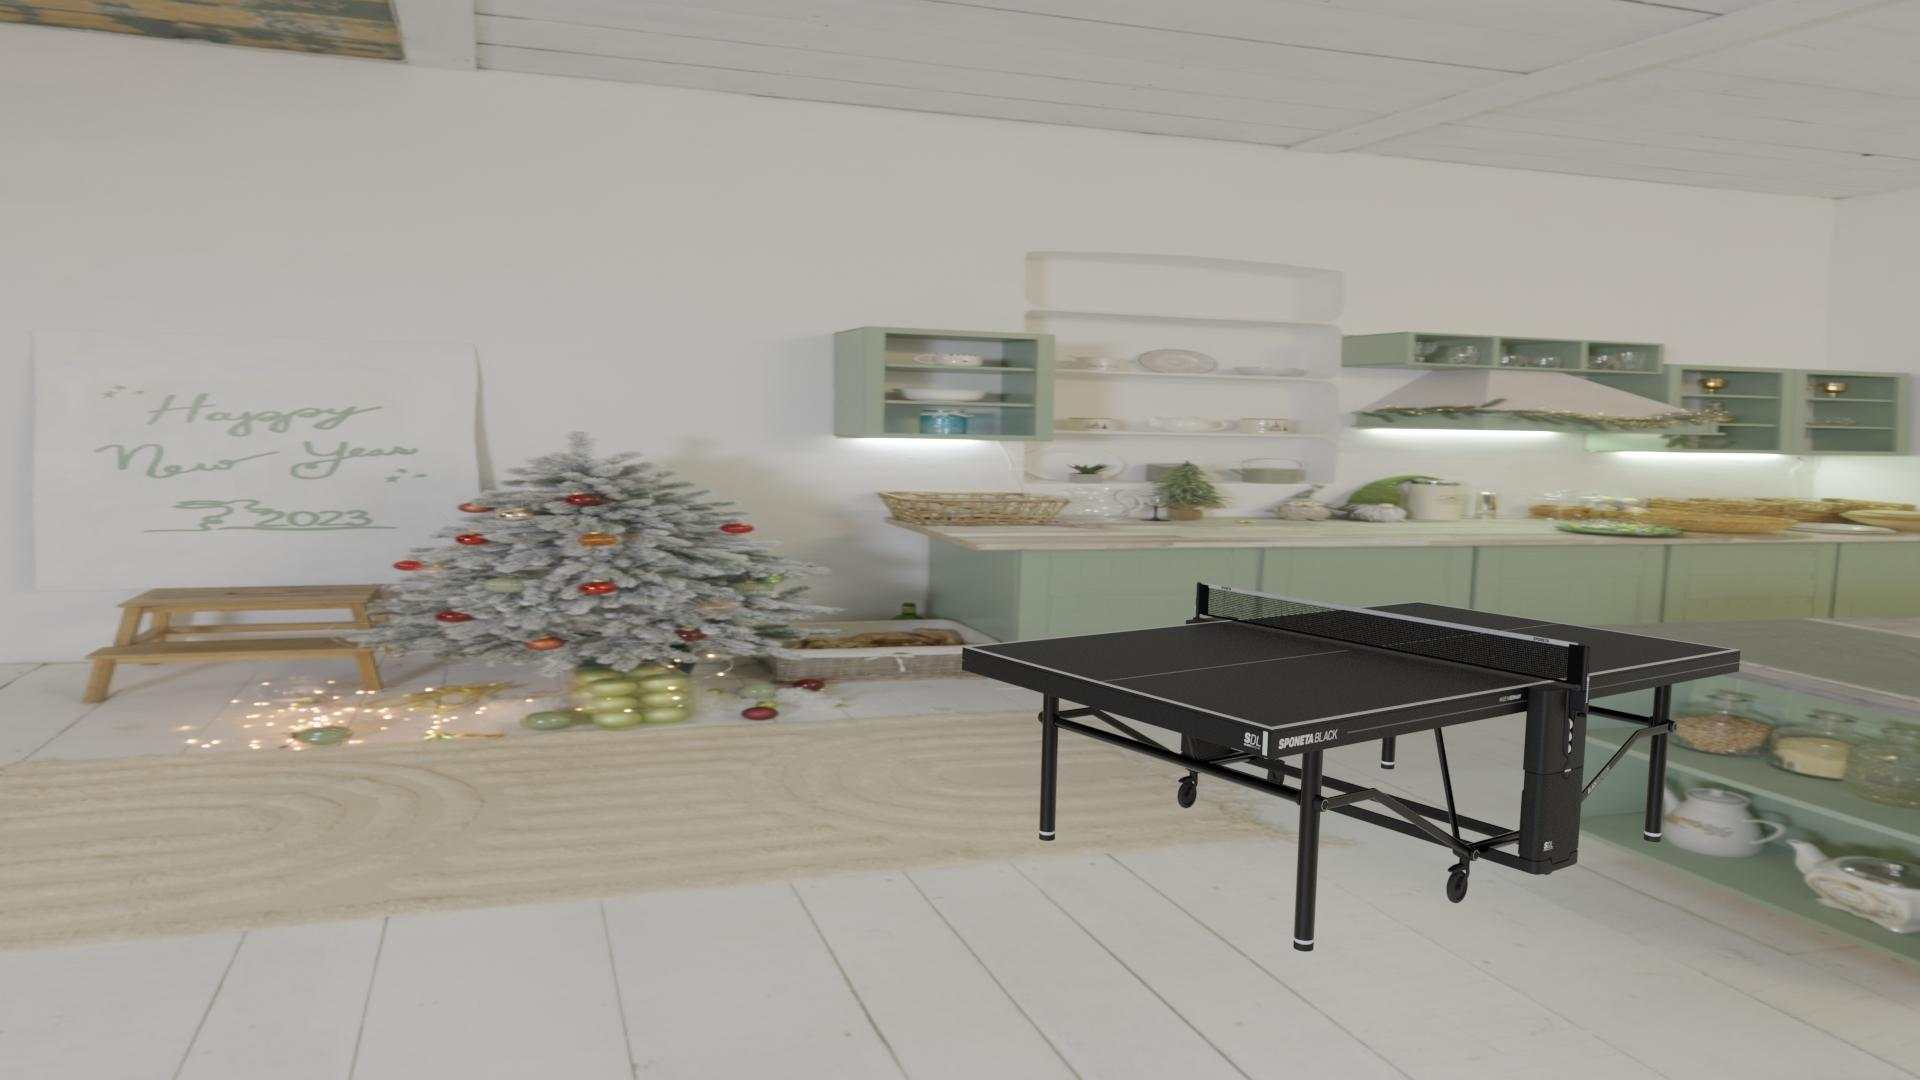table: (969, 603, 1733, 727)
